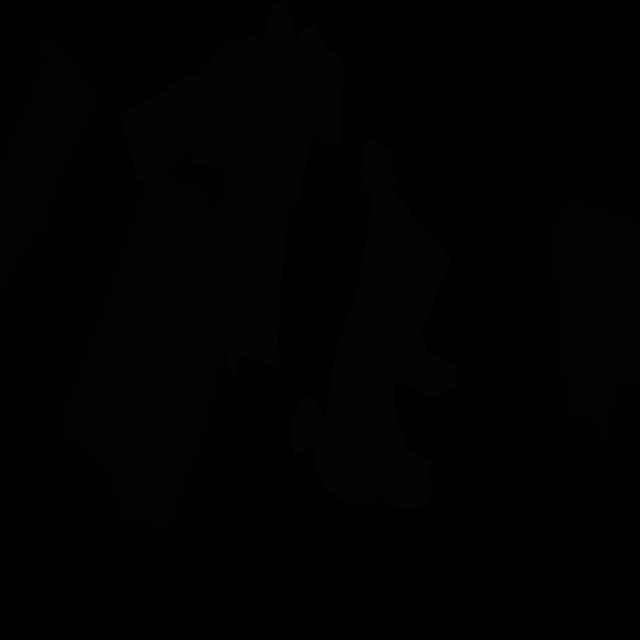cardboard: (58, 164, 252, 528), (0, 33, 102, 308), (551, 197, 640, 454)
rigid_plastic: (1, 0, 110, 54)
soft_plastic: (290, 137, 456, 509), (227, 24, 343, 376), (120, 0, 296, 182)
